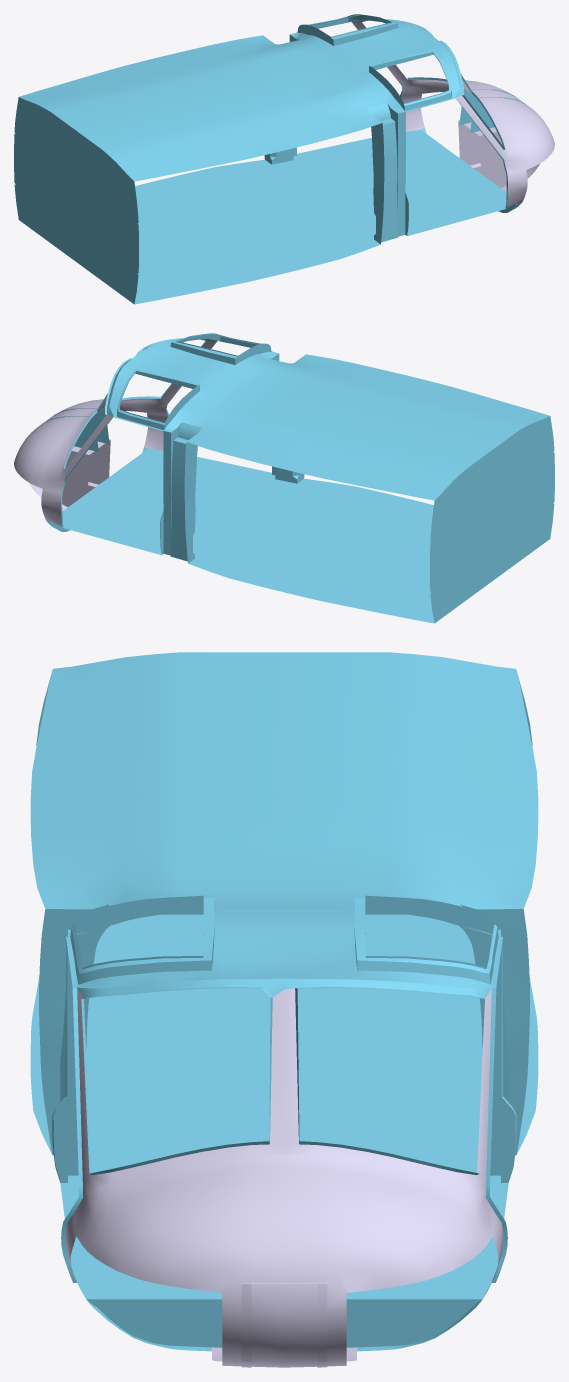
Rendered from helicopter_uh_walls.fbx.
3 views of the same model, one above another, from view 1: azimuth 30°, elevation 25°; view 2: azimuth 150°, elevation 25°; view 3: azimuth 270°, elevation 25° (orthographic). The views are drawn at different scales.
Visible parts, largest first — view 1: helicopter_uh_walls; view 2: helicopter_uh_walls; view 3: helicopter_uh_walls.
Boxes of the visible parts, x1=… form: helicopter_uh_walls: x1=14, y1=14, x2=554, y2=304; helicopter_uh_walls: x1=14, y1=333, x2=554, y2=623; helicopter_uh_walls: x1=30, y1=652, x2=538, y2=1367.
Size of the model in its own units: 524 by 184 by 251.
